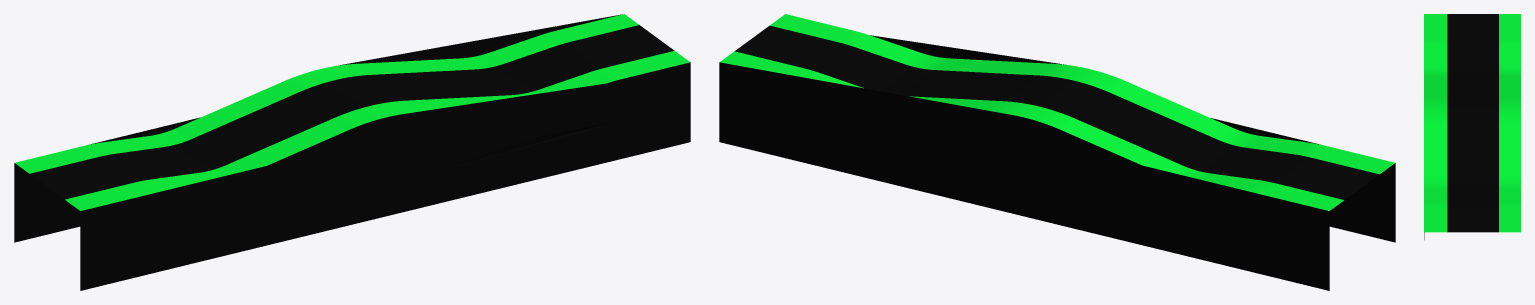
File: Hill.fbx
3 renders of one model, left to right at view 1: azimuth 30°, elevation 25°; view 2: azimuth 150°, elevation 25°; view 3: azimuth 270°, elevation 25°, orthographic. The views are drawn at different scales.
Visible parts, largest first — view 1: Hill_Prefab; view 2: Hill_Prefab; view 3: Hill_Prefab.
Part boxes in pixels (x1=…): Hill_Prefab: x1=14, y1=14, x2=690, y2=290; Hill_Prefab: x1=719, y1=14, x2=1395, y2=290; Hill_Prefab: x1=1424, y1=14, x2=1520, y2=239.
Size of the model in its own units: 80 by 12.4 by 15.
